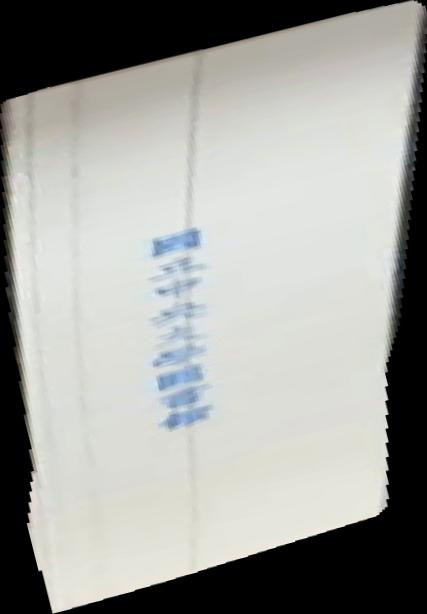backward: (1, 1, 427, 614)
